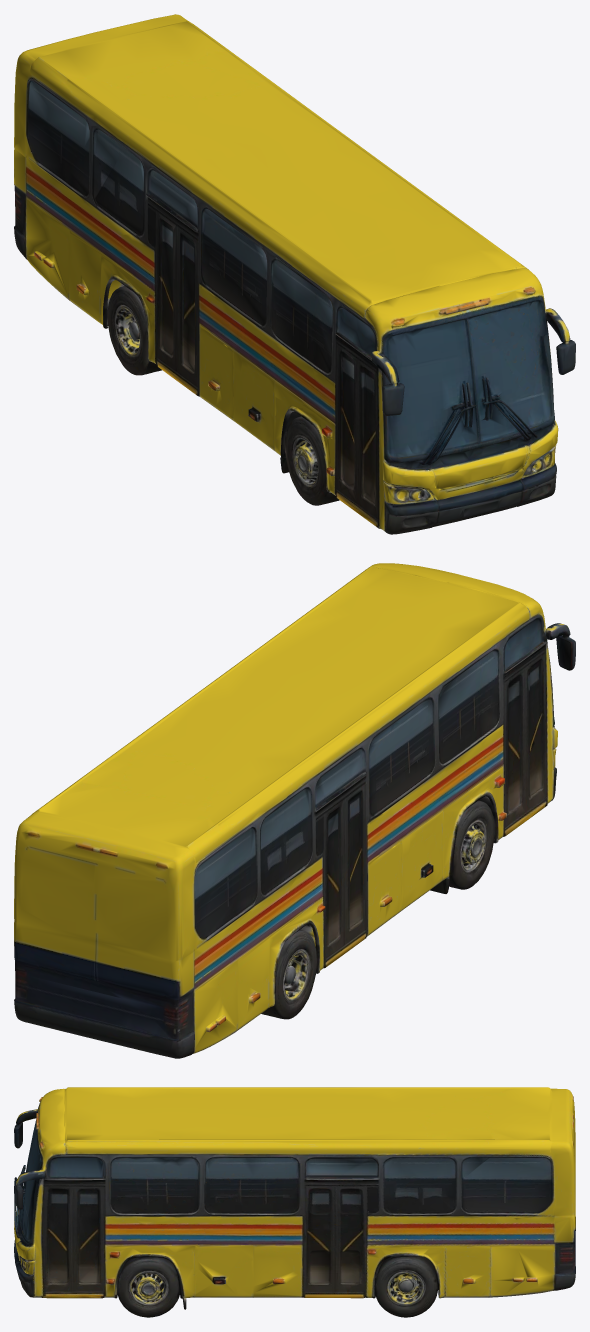
Rendered from car-bus-yellow-v3.glb.
The picture shows the model from 3 angles, top to bottom: view 1: azimuth 30°, elevation 25°; view 2: azimuth 150°, elevation 25°; view 3: azimuth 270°, elevation 25°; orthographic projection. The views are drawn at different scales.
Visible parts, largest first — view 1: node_0; view 2: node_0; view 3: node_0.
Boxes of the visible parts, box(x1,y1,x2,y2) form: node_0: box(14, 14, 575, 534); node_0: box(14, 563, 575, 1058); node_0: box(14, 1087, 575, 1317).
Size of the model in its own units: 0.324 by 0.3901 by 1.13.
Materials: 1 (1 with a texture image).
